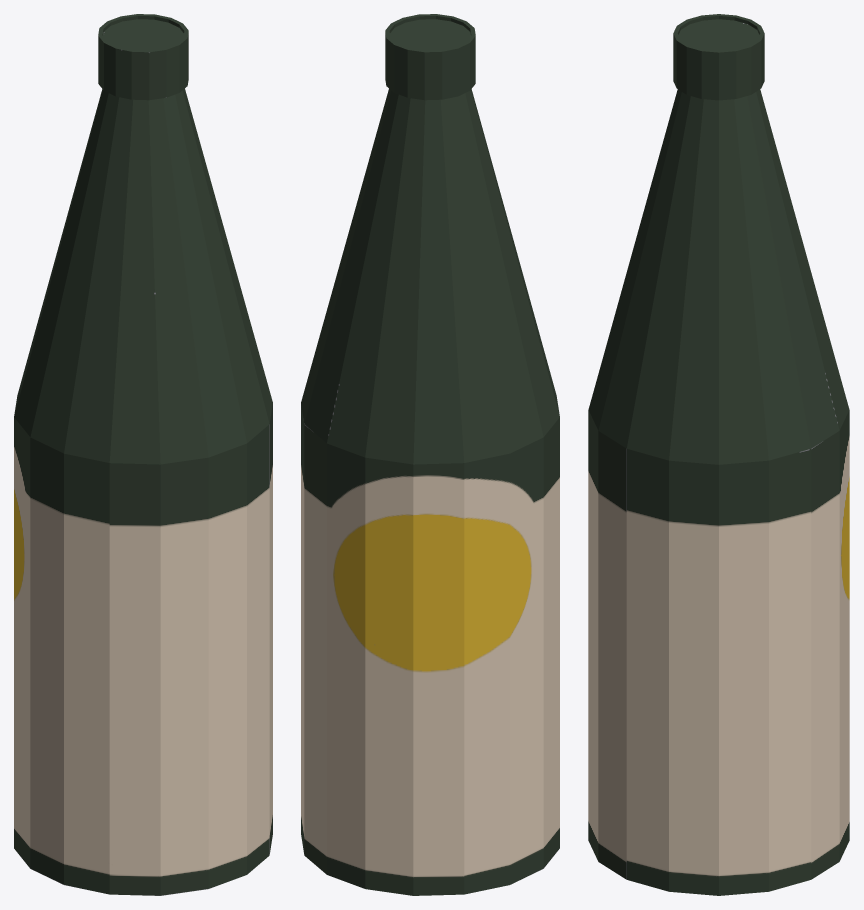
File: S.Beer.fbx
3 renders of one model, left to right at view 1: azimuth 30°, elevation 25°; view 2: azimuth 150°, elevation 25°; view 3: azimuth 270°, elevation 25°, orthographic.
Parts seen in each view (by area): view 1: BeerBottle; view 2: BeerBottle; view 3: BeerBottle.
Boxes of the visible parts, x1,y1,x2,y2 form: BeerBottle: (14, 14, 272, 895); BeerBottle: (301, 14, 559, 895); BeerBottle: (588, 14, 849, 895).
Bounding box in the file's own units: 23.34 × 79.67 × 23.34.
